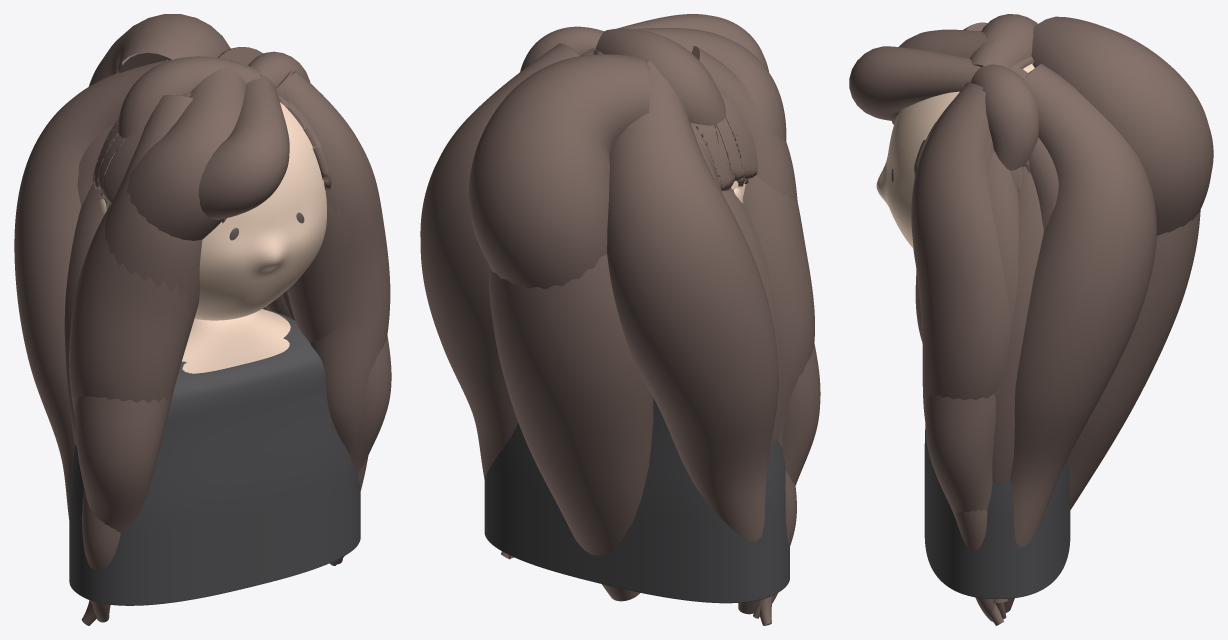
Rendered from character.glb.
3 renders of one model, left to right at view 1: azimuth 30°, elevation 25°; view 2: azimuth 150°, elevation 25°; view 3: azimuth 270°, elevation 25°, orthographic. The views are drawn at different scales.
Parts seen in each view (by area): view 1: top, back_vol_l, back_vol_side_l, lock_p_left, lock_p_right, head, lock_p_over_l, lock_p_bang, back_vol_side_r, back_vol_occiput, body, scalp_l (+6 smaller); view 2: back_vol_l, back_vol_c, back_vol_occiput, top, back_vol_r, lock_p_left, back_vol_side_l, scalp_l, lock_p_over_l, back_vol_nape_l, lock_p_bang, scalp_r (+4 smaller); view 3: back_vol_r, lock_p_right, back_vol_occiput, top, back_vol_c, back_vol_side_r, lock_p_bang, back_vol_nape_r, scalp_r, head, lock_p_temple_r, scalp_l (+2 smaller).
Boxes of the visible parts, box(x1,y1,x2,y2) form: top: box(69, 310, 360, 605); back_vol_l: box(14, 58, 172, 520); back_vol_side_l: box(75, 95, 202, 622); lock_p_left: box(69, 93, 191, 625); lock_p_right: box(282, 70, 390, 564); head: box(105, 102, 326, 320); lock_p_over_l: box(91, 61, 245, 603); lock_p_bang: box(198, 74, 289, 219); back_vol_side_r: box(275, 71, 391, 565); back_vol_occiput: box(89, 14, 230, 86); body: box(182, 309, 290, 373); scalp_l: box(103, 56, 260, 203); back_vol_l: box(607, 61, 778, 614); back_vol_c: box(489, 254, 653, 601); back_vol_occiput: box(469, 54, 649, 289); top: box(484, 398, 789, 603); back_vol_r: box(420, 43, 579, 479); lock_p_left: box(737, 175, 814, 625); back_vol_side_l: box(691, 46, 820, 603); scalp_l: box(593, 28, 748, 183); lock_p_over_l: box(627, 28, 786, 596); back_vol_nape_l: box(722, 179, 781, 443); lock_p_bang: box(617, 14, 768, 71); scalp_r: box(520, 26, 603, 71); back_vol_r: box(1004, 64, 1156, 612); lock_p_right: box(911, 83, 1009, 625); back_vol_occiput: box(1031, 16, 1213, 235); top: box(924, 428, 1070, 598); back_vol_c: box(1068, 210, 1200, 509); back_vol_side_r: box(925, 82, 995, 621); lock_p_bang: box(849, 46, 980, 121); back_vol_nape_r: box(992, 166, 1043, 602); scalp_r: box(970, 64, 1038, 170); head: box(876, 64, 1034, 248); lock_p_temple_r: box(988, 150, 1023, 400); scalp_l: box(970, 14, 1037, 69).
Bounding box in the file's own units: 2.85 × 4.64 × 2.84.
